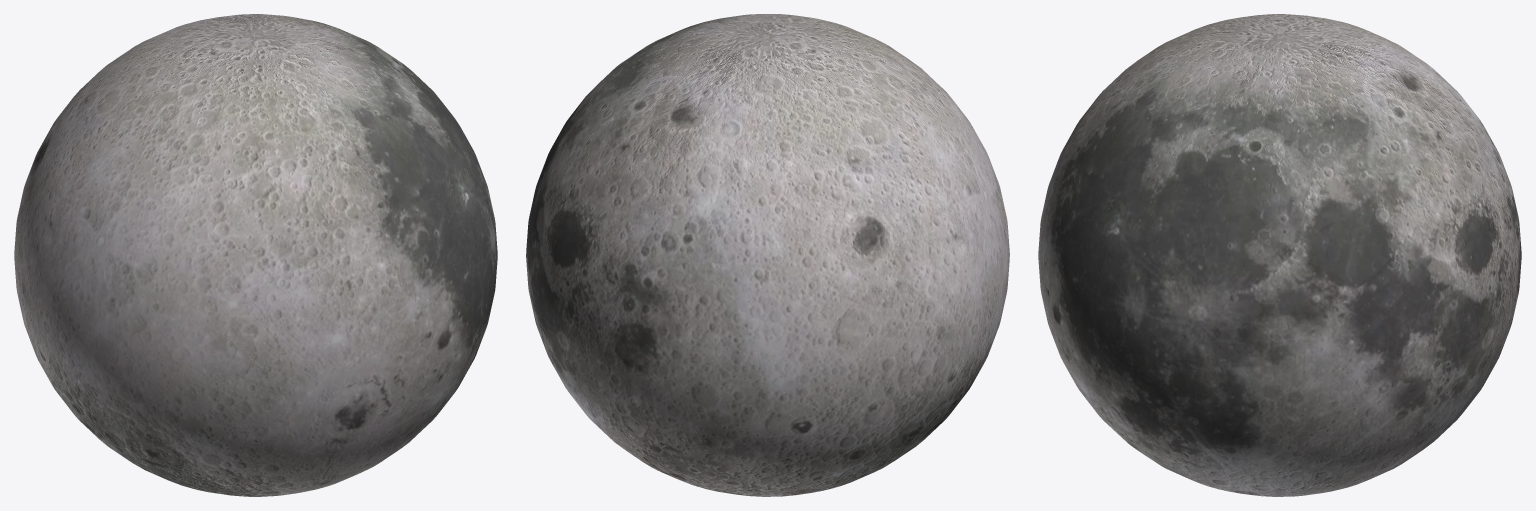
The model's file is moon_quest.glb.
3 views of the same model, side by side, from view 1: azimuth 30°, elevation 25°; view 2: azimuth 150°, elevation 25°; view 3: azimuth 270°, elevation 25° (orthographic).
Parts seen in each view (by area): view 1: Sphere_Material.002_0; view 2: Sphere_Material.002_0; view 3: Sphere_Material.002_0.
Boxes of the visible parts, box(x1,y1,x2,y2) form: Sphere_Material.002_0: box(14, 14, 497, 496); Sphere_Material.002_0: box(526, 14, 1009, 496); Sphere_Material.002_0: box(1038, 14, 1521, 496).
Size of the model in its own units: 200 by 200 by 200.
Materials: 1 (1 with a texture image).
